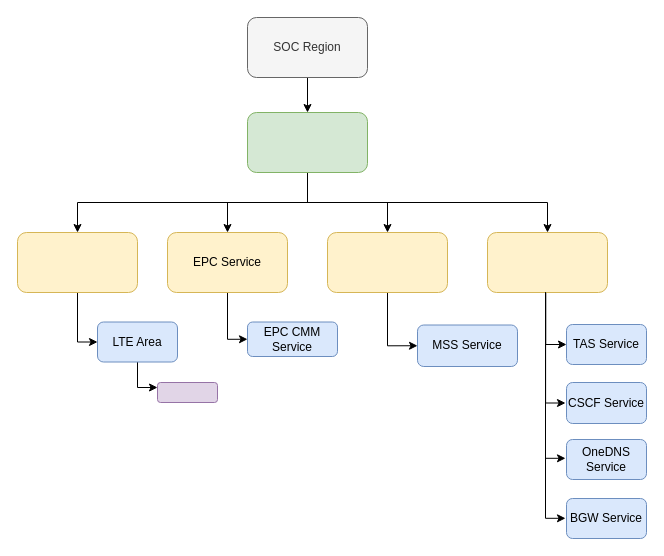
The diagram is 664 pixels wide and 556 high, and some of its shapes have lost their labels. Each missing label, with the centre of its shape:
"CS Core Service" goes at point (387, 262).
"IMS Service" goes at point (547, 262).
"LTE Radio Service" goes at point (77, 262).
"LTE Site" goes at point (187, 392).
"Volte Service" goes at point (307, 142).
